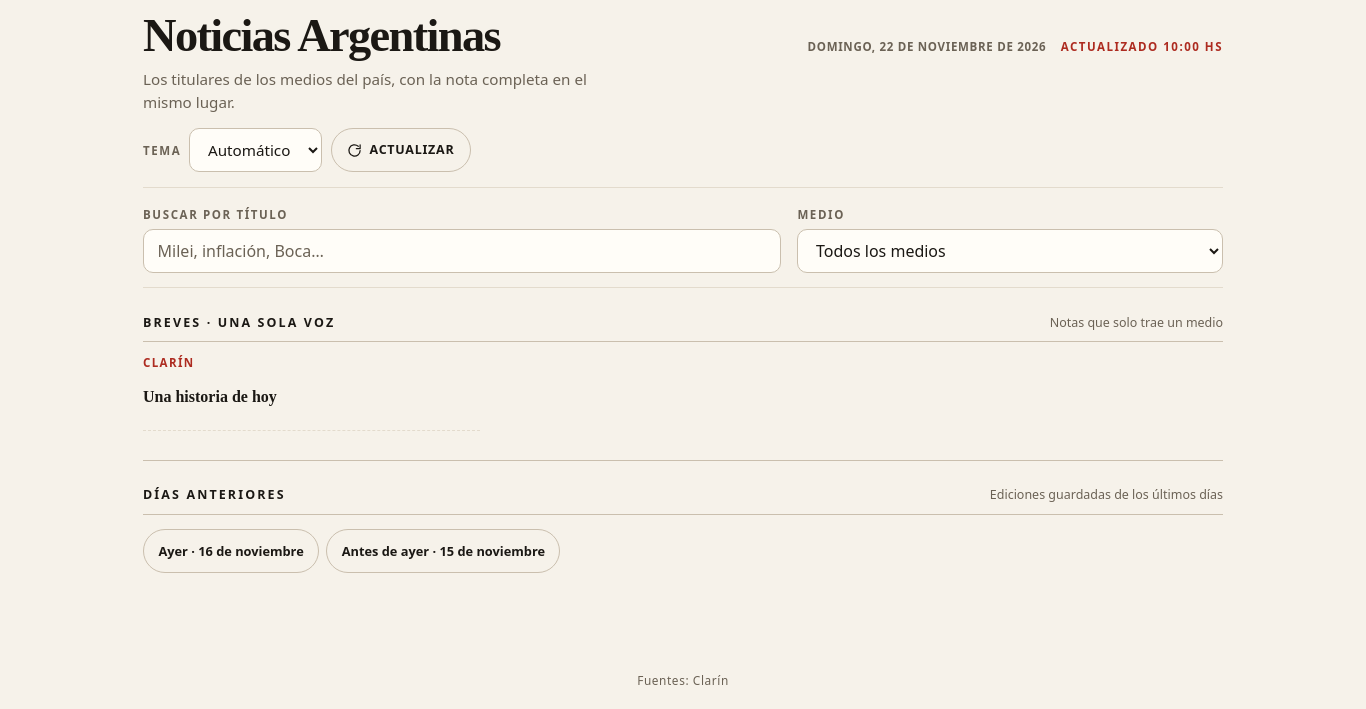
Scenario: edition history › filters the previous day with the same medium filter
This screenshot has width=1366, height=709.
Expected: the button "Una historia de hoy" is shown, [143,375,480,419]
Click the button "Ayer · 16 de noviembre": (231, 551) [143,529,319,573]
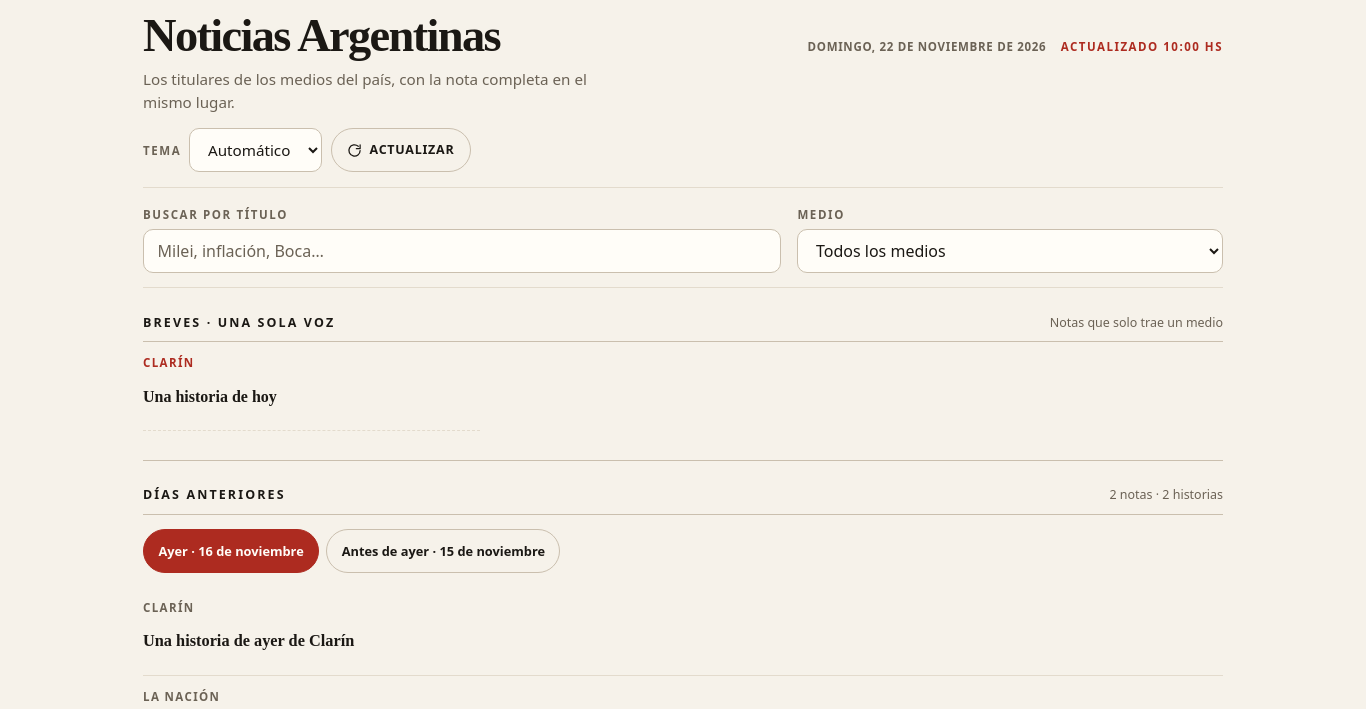
Select "La Nación" in the dropdown labelled "Medio": (1010, 251) [797,229,1223,273]
(page scrolled)
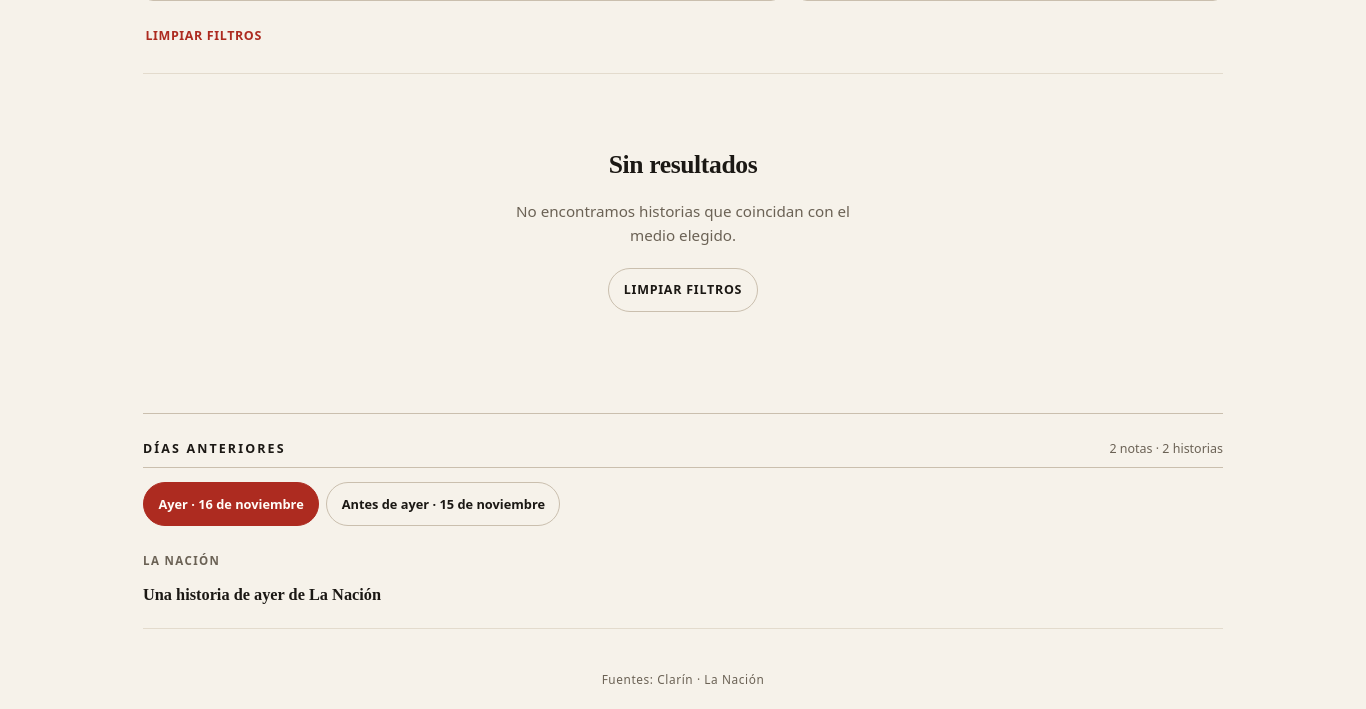
Result: the button "Una historia de ayer de La Nación" is shown at [143,572,1223,616]
Result: the button "Una historia de ayer de Clarín" is gone
